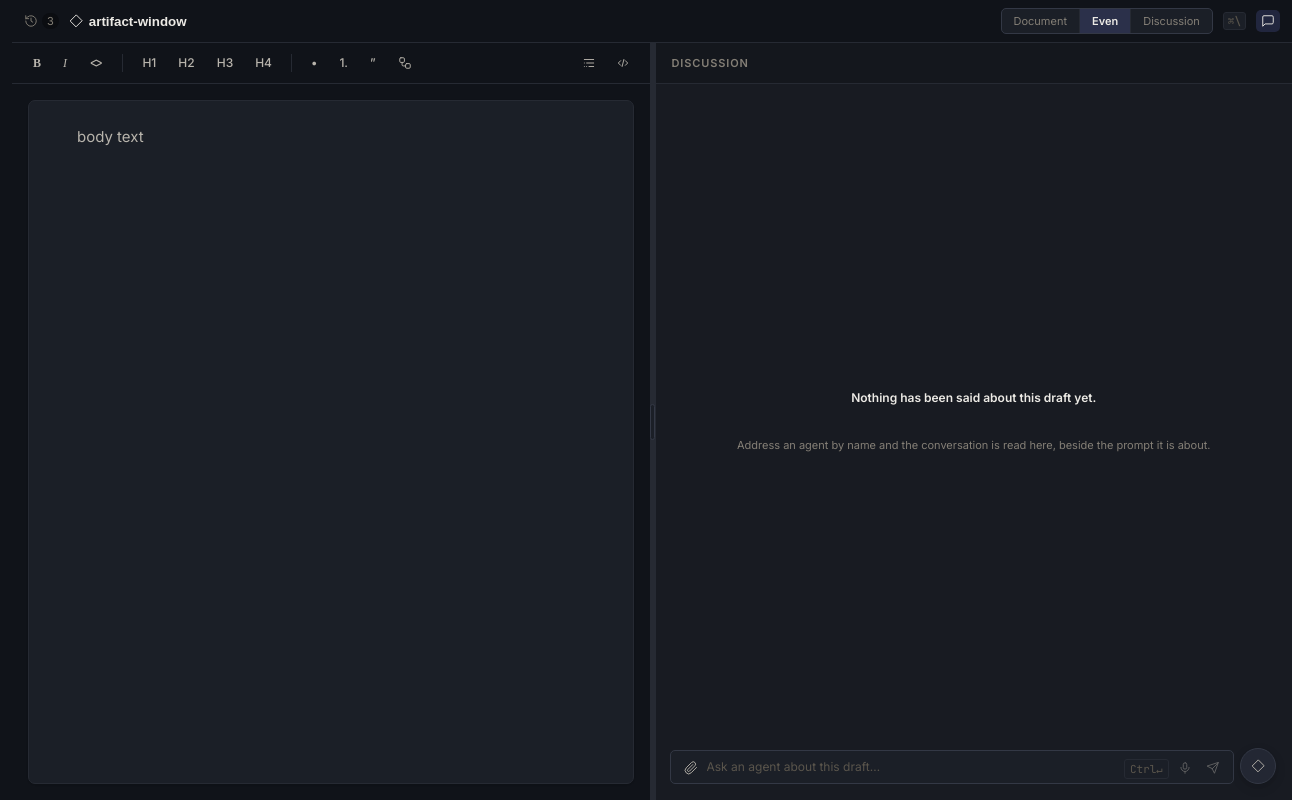
New Artifact workspace — Copy as Source › NAW-FR-NVYZ: while a version is read, the copy is the live prompt and not that version
This screenshot has width=1292, height=800.
Expected: the text box "body text" is shown, [77,127,144,146]
Click the button named "Edit as Markdown source": (622, 63) [608,49,638,77]
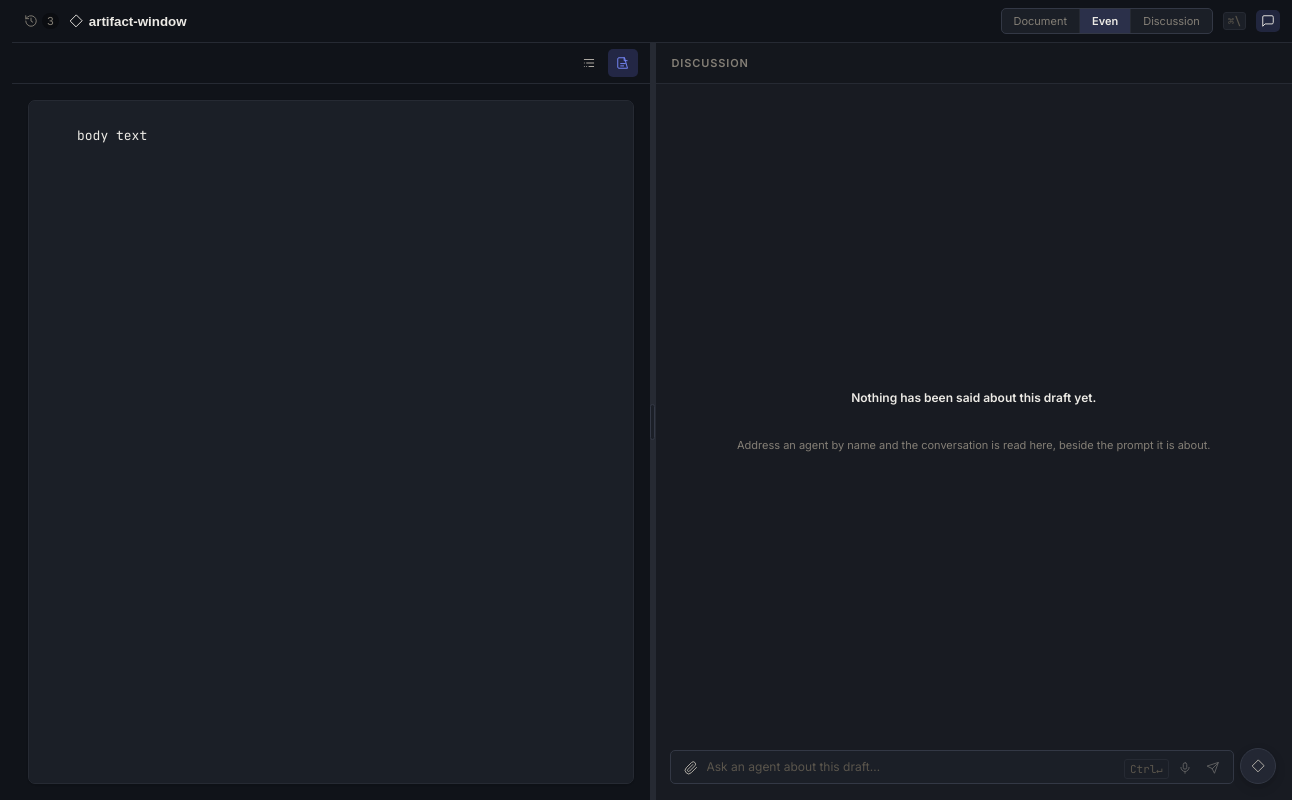
Replace the text in the text box named "Markdown source" with "the live prompt, edited": (331, 442) [29,101,632,783]
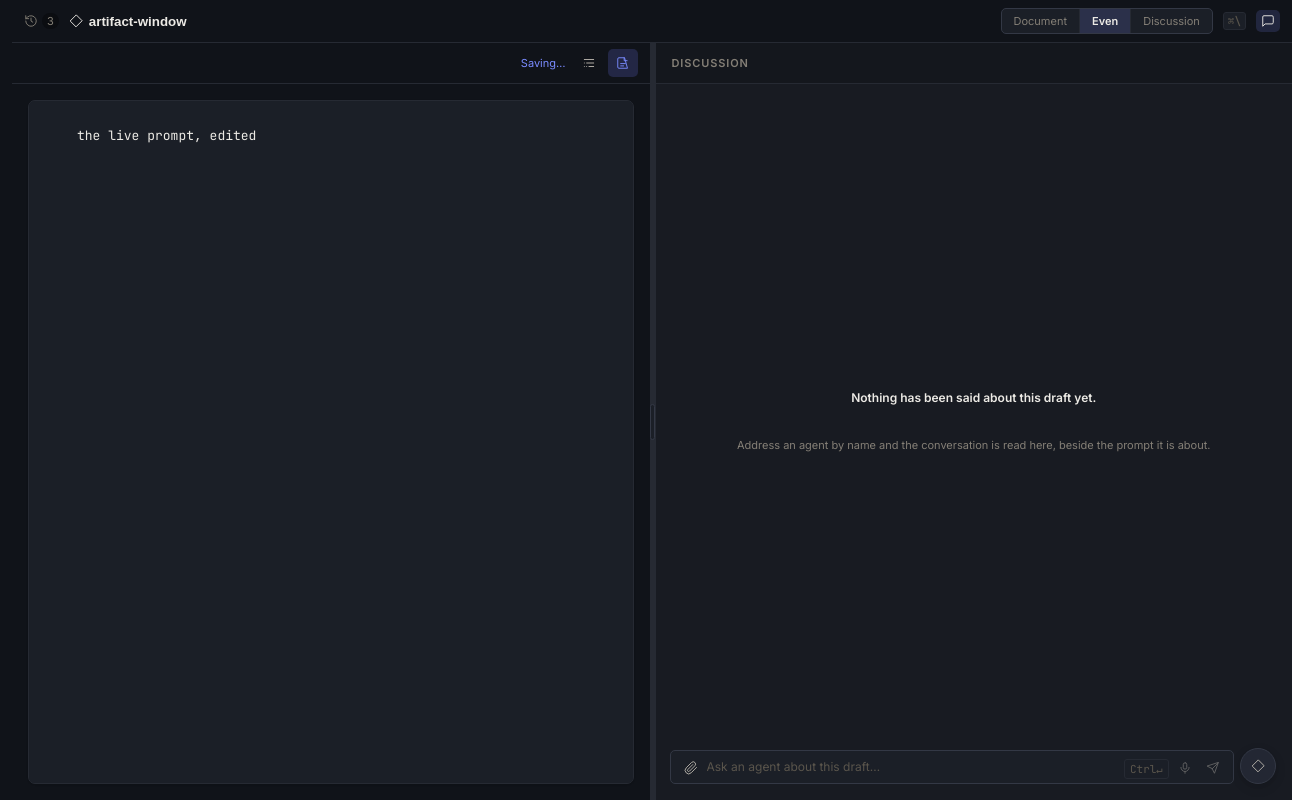
Click the button named "Show History": (41, 21) [24,13,59,29]
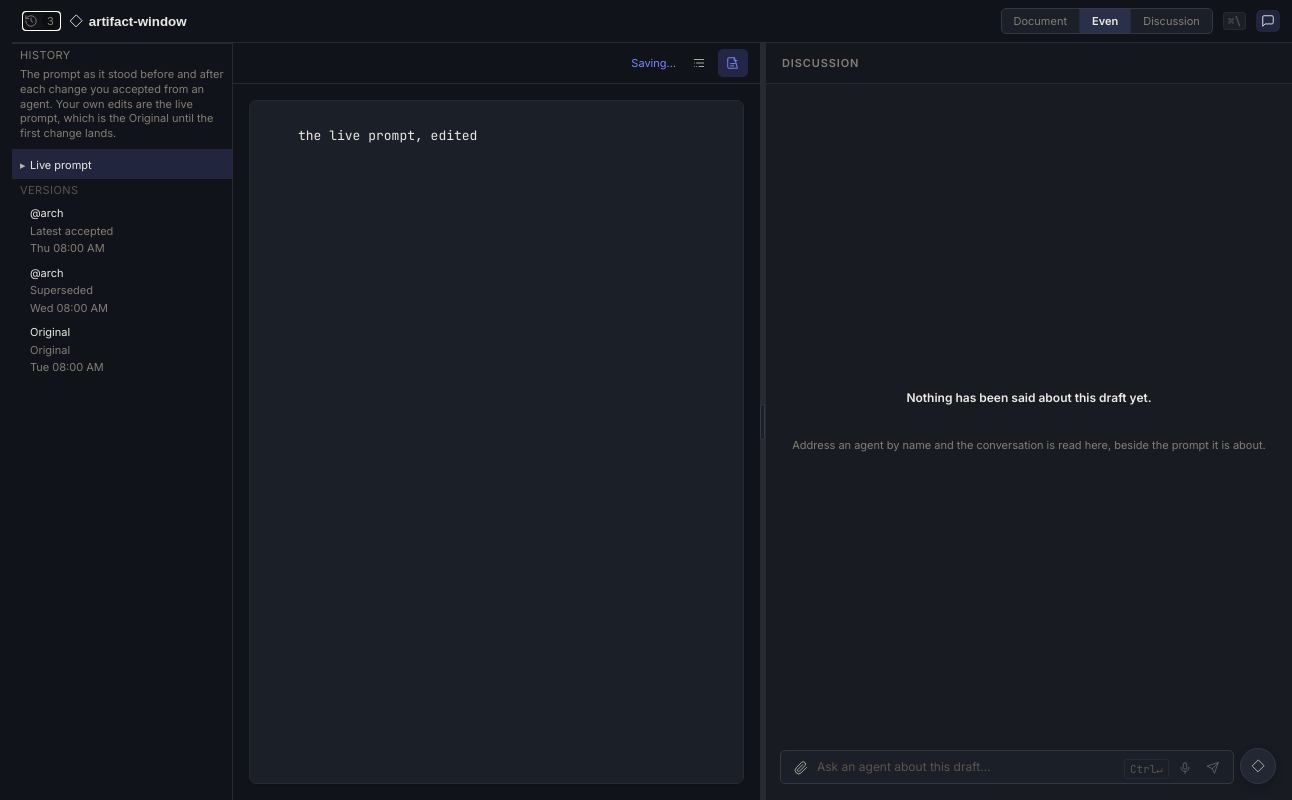
Click the button with class "draft-version" showing "Original Original Tue 08:00 AM": (122, 350) [12,320,232,380]
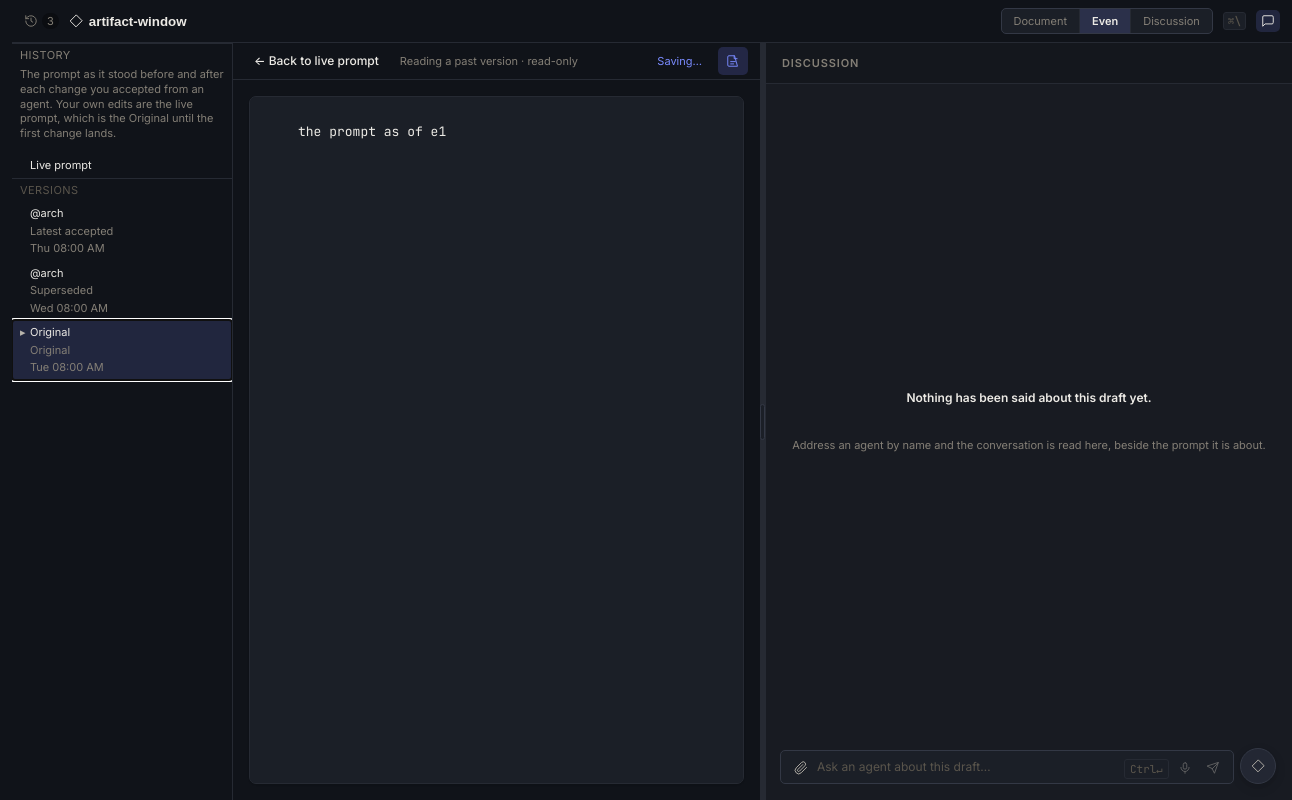
Expected: the text "the prompt as of e1" is shown, [250,97,743,783]
Click the button named "Draft actions": (1258, 766) [1240,748,1276,784]
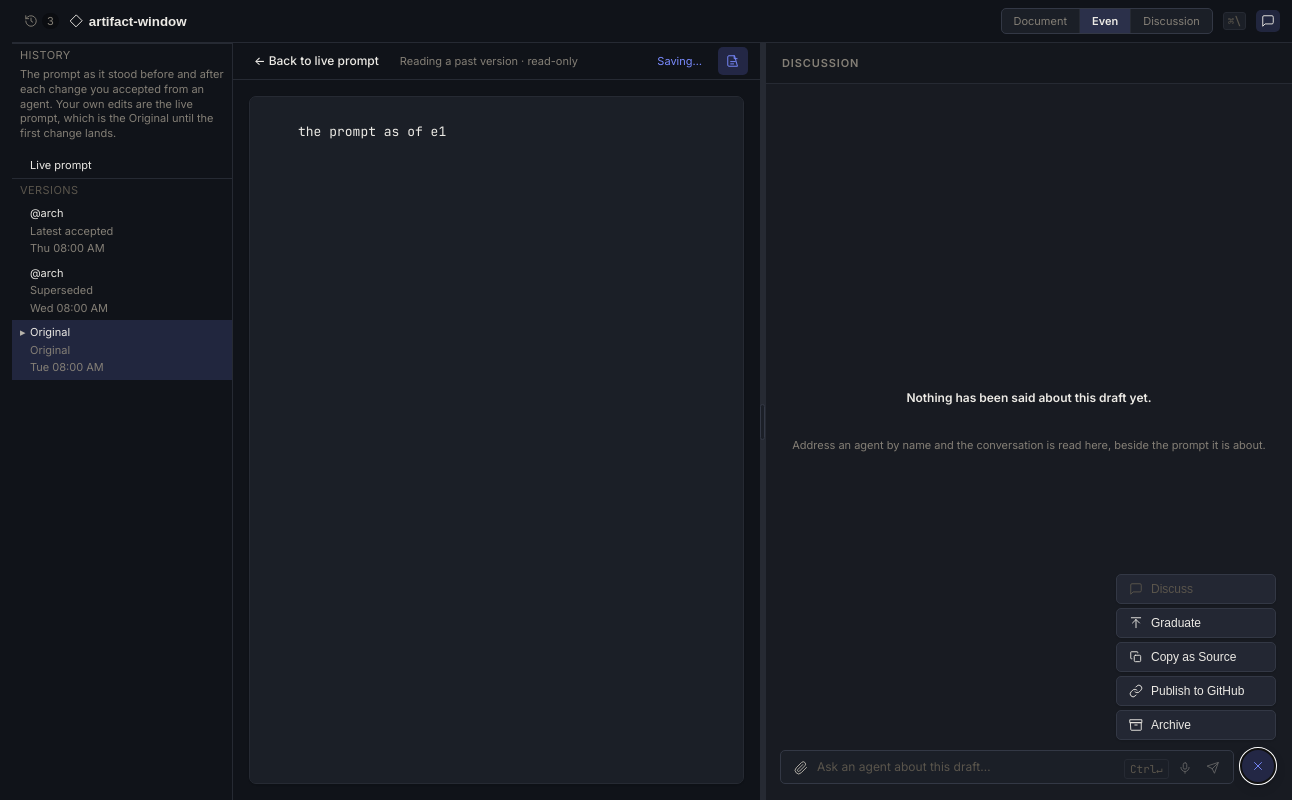
Click the menu item "Copy as Source": (1196, 657) [1116,642,1276,672]
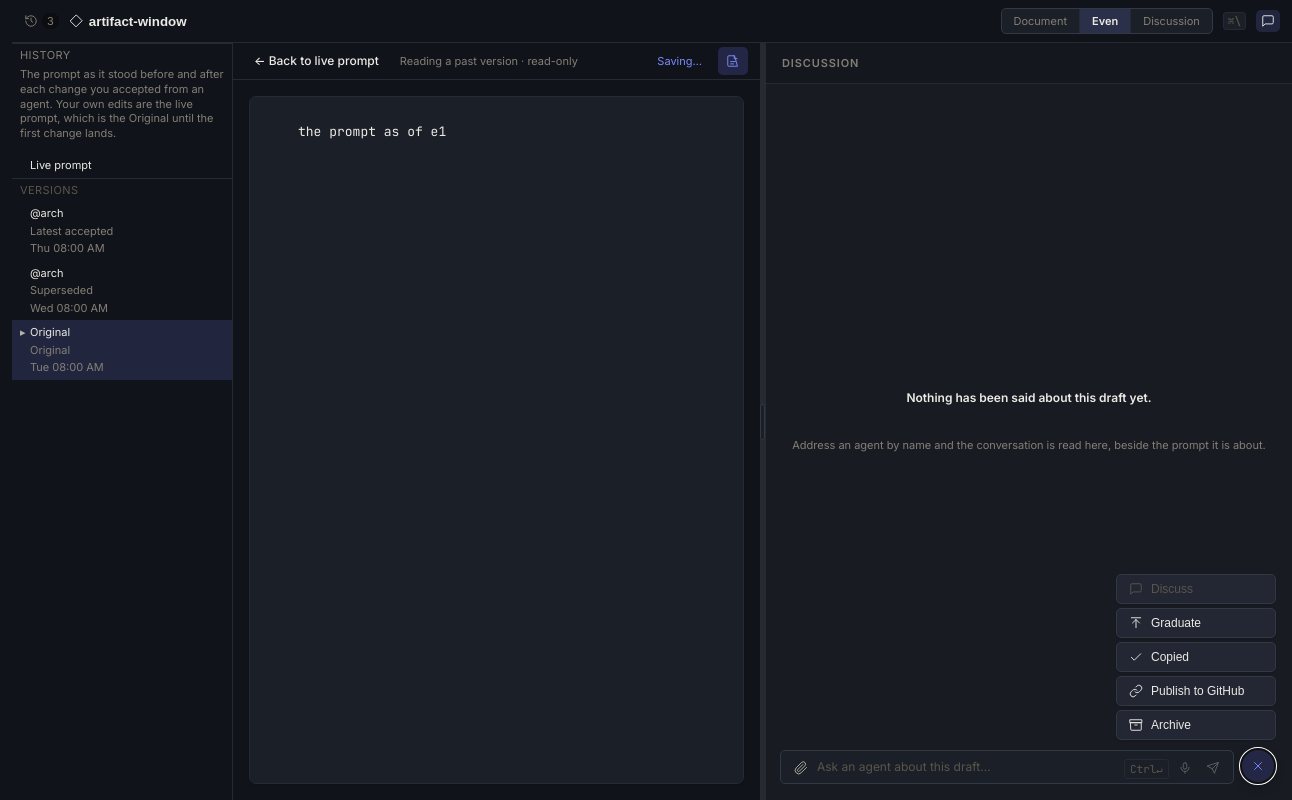
Expected: the menu item "Copied" is shown, [1116,642,1276,672]
